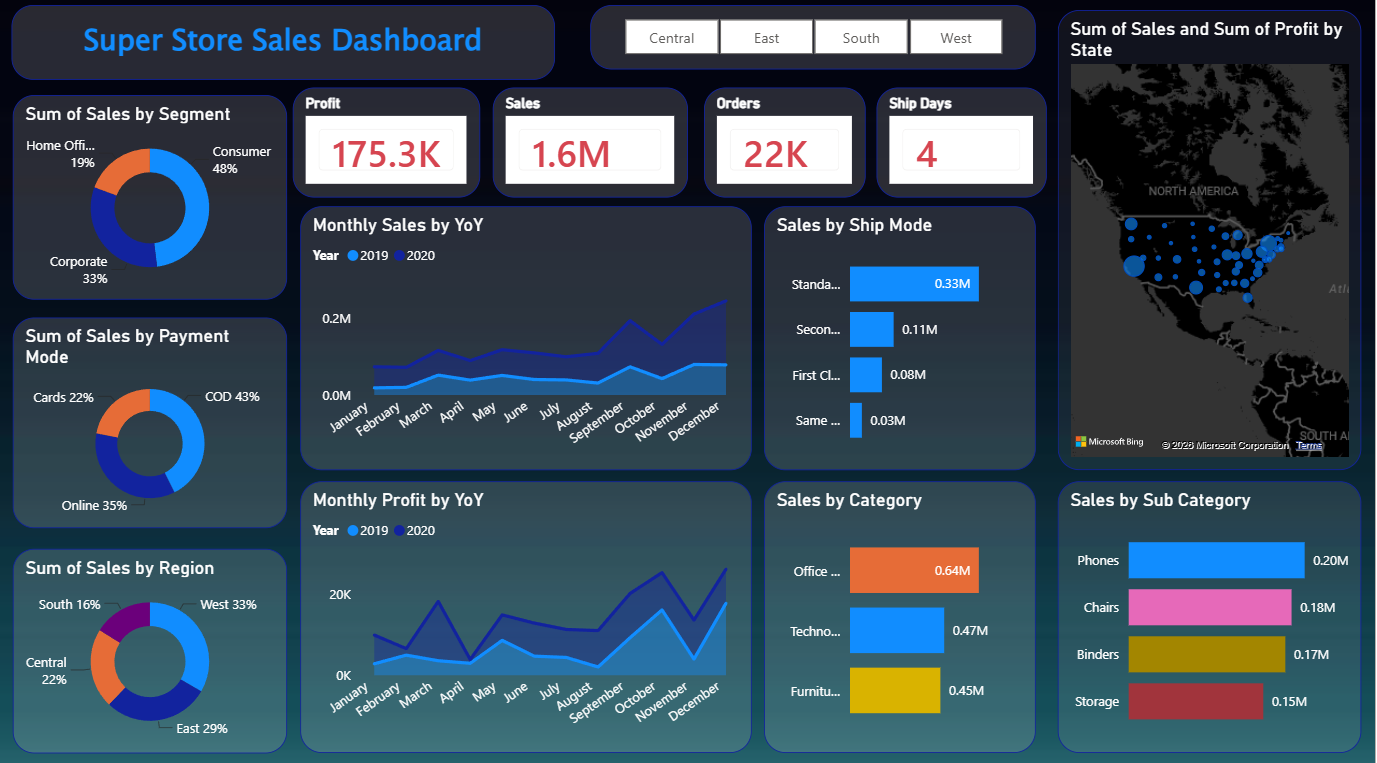

The page's visual inventory and layout, read from the dashboard file:
{"tool":"powerbi","page":{"name":"Page 1","canvas":[1280,720],"ordinal":0},"visuals":[{"type":"clusteredBarChart","title":"Sales by Category","fields":{"Category":["SuperStore_Sales_Dataset.Category"],"Y":["Sum(SuperStore_Sales_Dataset.Sales)"]},"box":[712.2,452.8,252.5,252.5],"z":0},{"type":"clusteredBarChart","title":"Sales by Ship Mode","fields":{"Y":["Sum(SuperStore_Sales_Dataset.Sales)"],"Category":["SuperStore_Sales_Dataset.Ship Mode"]},"box":[712.2,196.2,252.5,245.6],"z":1000},{"type":"clusteredBarChart","title":"Sales by Sub Category","fields":{"Category":["SuperStore_Sales_Dataset.Sub-Category"],"Y":["Sum(SuperStore_Sales_Dataset.Sales)"]},"box":[985.3,452.8,282.7,252.5],"z":2000},{"type":"stackedAreaChart","title":"Monthly Sales by YoY","fields":{"Y":["Sum(SuperStore_Sales_Dataset.Sales)"],"Category":["SuperStore_Sales_Dataset.Order Date.Variation.Date Hierarchy.Month","SuperStore_Sales_Dataset.Order Date.Variation.Date Hierarchy.Day"],"Series":["SuperStore_Sales_Dataset.Order Date.Variation.Date Hierarchy.Year"]},"box":[279.9,196.2,419.9,245.6],"z":3000},{"type":"stackedAreaChart","title":"Monthly Profit  by YoY","fields":{"Category":["SuperStore_Sales_Dataset.Order Date.Variation.Date Hierarchy.Month","SuperStore_Sales_Dataset.Order Date.Variation.Date Hierarchy.Day"],"Series":["SuperStore_Sales_Dataset.Order Date.Variation.Date Hierarchy.Year"],"Y":["Sum(SuperStore_Sales_Dataset.Profit)"]},"box":[279.9,452.8,419.9,252.5],"z":4000},{"type":"map","fields":{"Category":["SuperStore_Sales_Dataset.State"],"Size":["Sum(SuperStore_Sales_Dataset.Sales)"]},"box":[985.3,13.7,282.7,428.1],"z":5000},{"type":"donutChart","fields":{"Category":["SuperStore_Sales_Dataset.Segment"],"Y":["Sum(SuperStore_Sales_Dataset.Sales)"]},"box":[12.3,93.3,255.2,190.7],"z":6000},{"type":"donutChart","fields":{"Y":["Sum(SuperStore_Sales_Dataset.Sales)"],"Category":["SuperStore_Sales_Dataset.Payment Mode"]},"box":[12.3,300.5,255.2,196.2],"z":7000},{"type":"donutChart","fields":{"Y":["Sum(SuperStore_Sales_Dataset.Sales)"],"Category":["SuperStore_Sales_Dataset.Region"]},"box":[12.3,514.6,255.2,190.7],"z":8000},{"type":"slicer","fields":{"Values":["SuperStore_Sales_Dataset.Region"]},"box":[550,9.6,414.3,60],"z":9000},{"type":"textbox","box":[12,9.6,505.6,69.7],"z":10000},{"type":"cardVisual","title":"Profit","fields":{"Data":["Sum(SuperStore_Sales_Dataset.Profit)"]},"box":[273.8,86.5,174.1,102.1],"z":11000},{"type":"cardVisual","title":"Sales","fields":{"Data":["Sum(SuperStore_Sales_Dataset.Sales)"]},"box":[458.8,86.5,181.3,102.1],"z":12000},{"type":"cardVisual","title":"Orders","fields":{"Data":["Sum(SuperStore_Sales_Dataset.Quantity)"]},"box":[655.7,86.5,150.1,102.1],"z":13000},{"type":"cardVisual","title":"Ship Days","fields":{"Data":["Avg(SuperStore_Sales_Dataset.Avg Delivery Days)"]},"box":[816.7,86.5,158.5,102.1],"z":14000}]}

Visuals, with their boxes in screenshot pixels (x1, y1, x2, y2), scaled from the page's 1280x720 canvas onto the 1377x763 screenshot:
"Sales by Category" clusteredBarChart: BBox(766, 480, 1038, 747)
"Sales by Ship Mode" clusteredBarChart: BBox(766, 208, 1038, 468)
"Sales by Sub Category" clusteredBarChart: BBox(1060, 480, 1364, 747)
"Monthly Sales by YoY" stackedAreaChart: BBox(301, 208, 753, 468)
"Monthly Profit  by YoY" stackedAreaChart: BBox(301, 480, 753, 747)
map - SuperStore_Sales_Dataset.State x Sum(SuperStore_Sales_Dataset.Sales): BBox(1060, 15, 1364, 468)
donutChart - SuperStore_Sales_Dataset.Segment x Sum(SuperStore_Sales_Dataset.Sales): BBox(13, 99, 288, 301)
donutChart - Sum(SuperStore_Sales_Dataset.Sales) x SuperStore_Sales_Dataset.Payment Mode: BBox(13, 318, 288, 526)
donutChart - Sum(SuperStore_Sales_Dataset.Sales) x SuperStore_Sales_Dataset.Region: BBox(13, 545, 288, 747)
slicer - SuperStore_Sales_Dataset.Region: BBox(592, 10, 1037, 74)
textbox: BBox(13, 10, 557, 84)
"Profit" cardVisual: BBox(295, 92, 482, 200)
"Sales" cardVisual: BBox(494, 92, 689, 200)
"Orders" cardVisual: BBox(705, 92, 867, 200)
"Ship Days" cardVisual: BBox(879, 92, 1049, 200)
